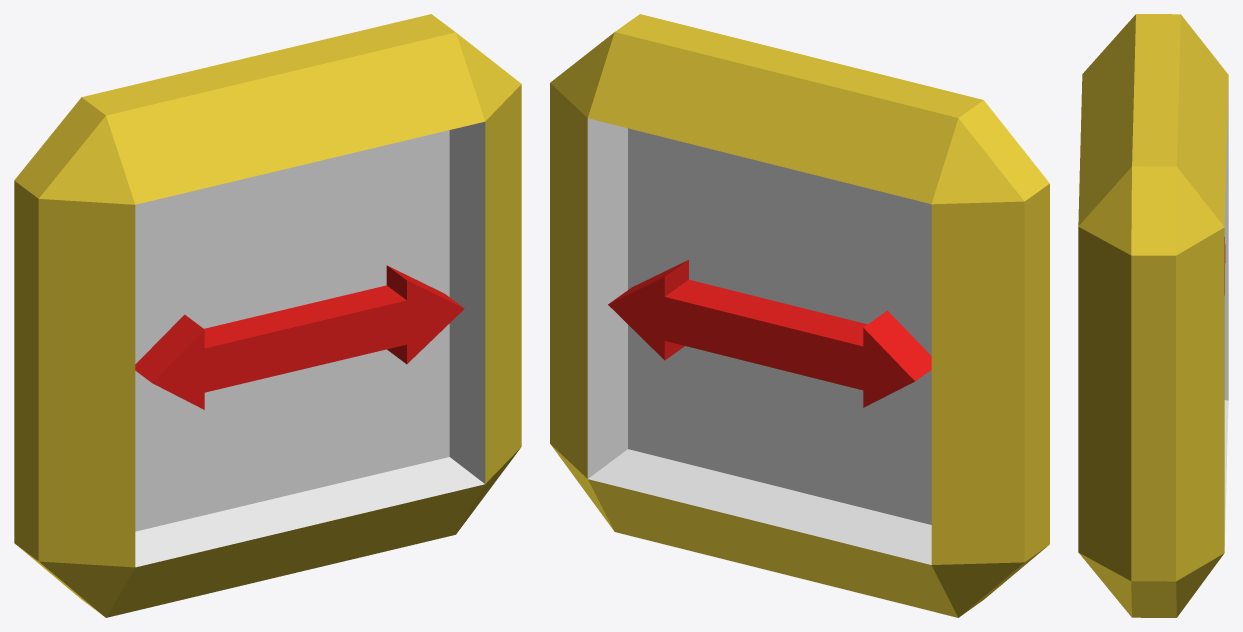
File: aitem barlong.fbx
3 renders of one model, left to right at view 1: azimuth 30°, elevation 25°; view 2: azimuth 150°, elevation 25°; view 3: azimuth 270°, elevation 25°, orthographic. The views are drawn at different scales.
Visible parts, largest first — view 1: Cube; view 2: Cube; view 3: Cube.
Boxes of the visible parts, x1=… form: Cube: x1=14, y1=14, x2=521, y2=617; Cube: x1=550, y1=14, x2=1049, y2=617; Cube: x1=1078, y1=14, x2=1228, y2=617.
Size of the model in its own units: 200 by 200 by 60.34.
